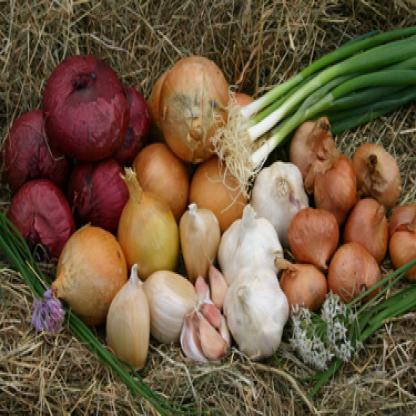onion: (44, 44, 128, 164), (155, 51, 235, 159), (55, 219, 131, 321), (180, 193, 228, 286), (286, 202, 339, 270)
